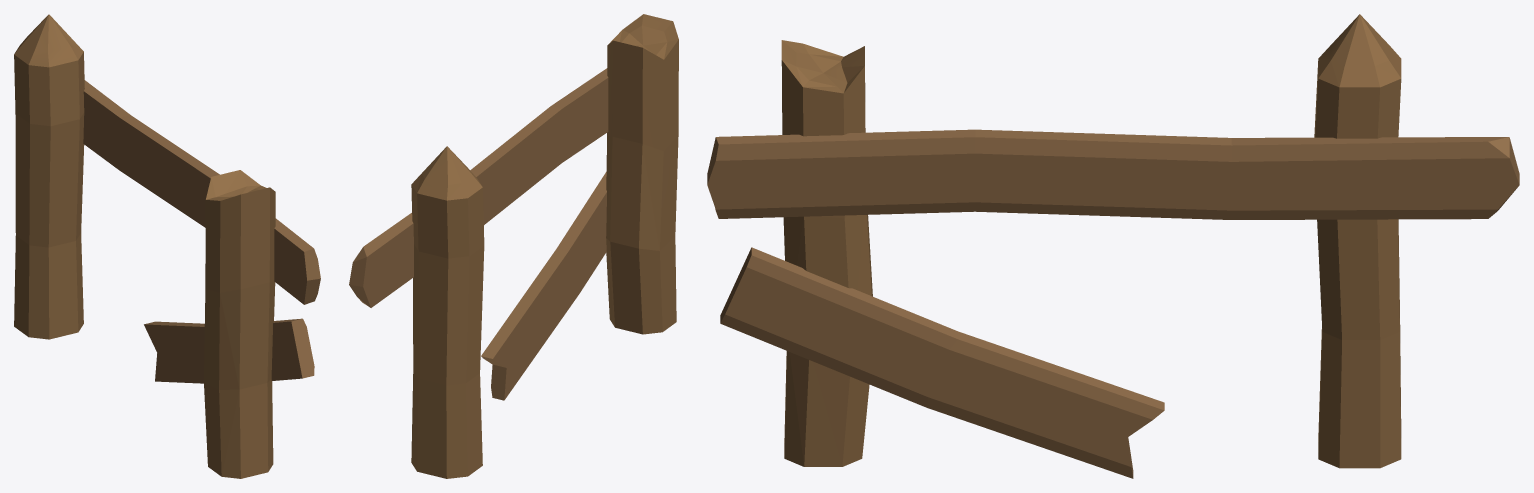
File: kawalek_plotu.fbx
The picture shows the model from 3 angles, left to right: view 1: azimuth 30°, elevation 25°; view 2: azimuth 150°, elevation 25°; view 3: azimuth 270°, elevation 25°; orthographic projection. The views are drawn at different scales.
Parts seen in each view (by area): view 1: Cube.001; view 2: Cube.001; view 3: Cube.001.
Boxes of the visible parts, x1,y1,x2,y2 form: Cube.001: (14, 14, 320, 478); Cube.001: (349, 14, 678, 478); Cube.001: (707, 14, 1519, 478).
Bounding box in the file's own units: 214 × 969 × 1621.
